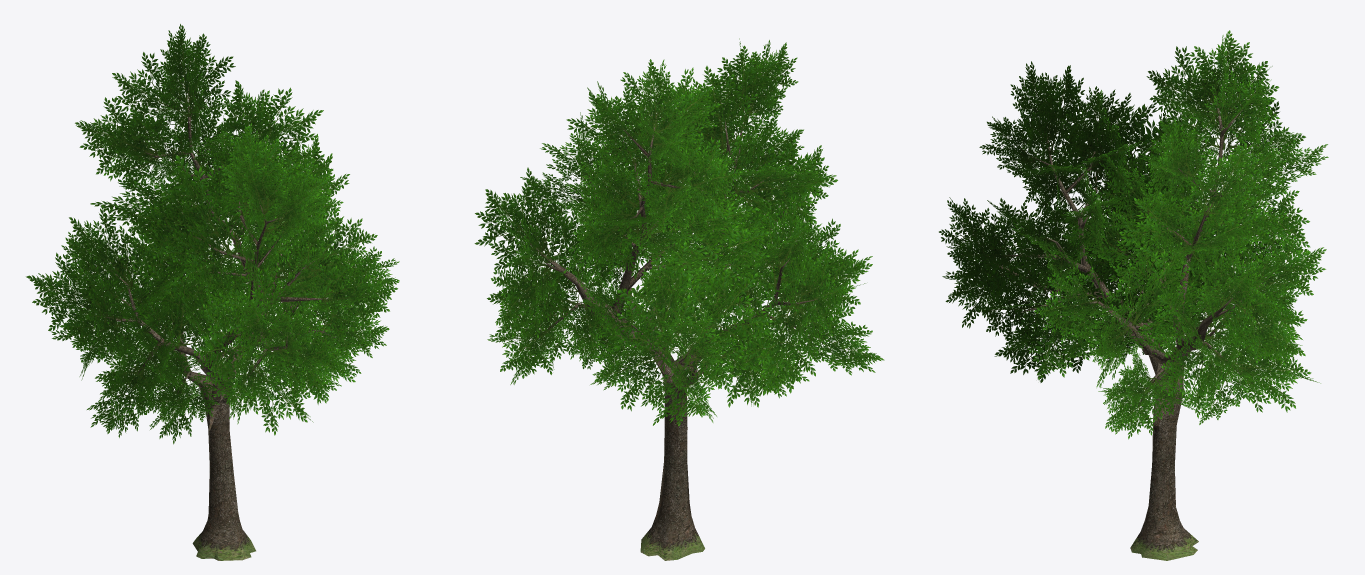
Rendered from TreeA.fbx.
The picture shows the model from 3 angles, left to right: view 1: azimuth 30°, elevation 25°; view 2: azimuth 150°, elevation 25°; view 3: azimuth 270°, elevation 25°; orthographic projection.
Visible parts, largest first — view 1: TreeA; view 2: TreeA; view 3: TreeA.
Part boxes in pixels (x1,y1,x2,y2): TreeA: (26, 24, 399, 560); TreeA: (474, 38, 884, 560); TreeA: (939, 30, 1328, 560).
Bounding box in the file's own units: 984 × 1275 × 957.
